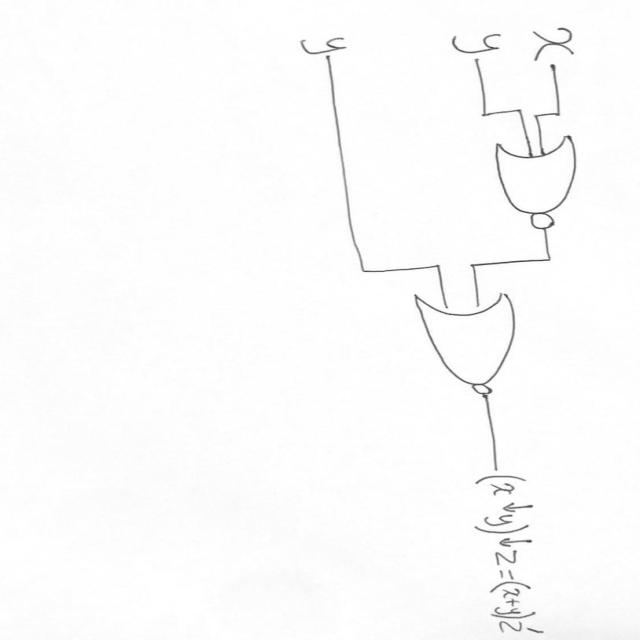NOR: (393, 287, 564, 402), (478, 131, 608, 234)
